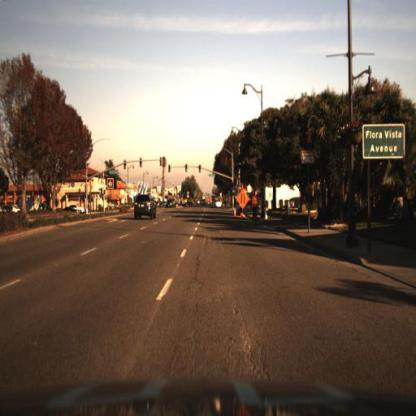biker: (250, 192, 261, 227), (251, 191, 261, 225)
car: (129, 191, 163, 225), (65, 199, 89, 215), (211, 194, 227, 210), (67, 207, 88, 219)
trafficLight-Green: (231, 180, 238, 195), (185, 161, 190, 177), (185, 164, 191, 177), (197, 164, 204, 175), (198, 165, 204, 177)
